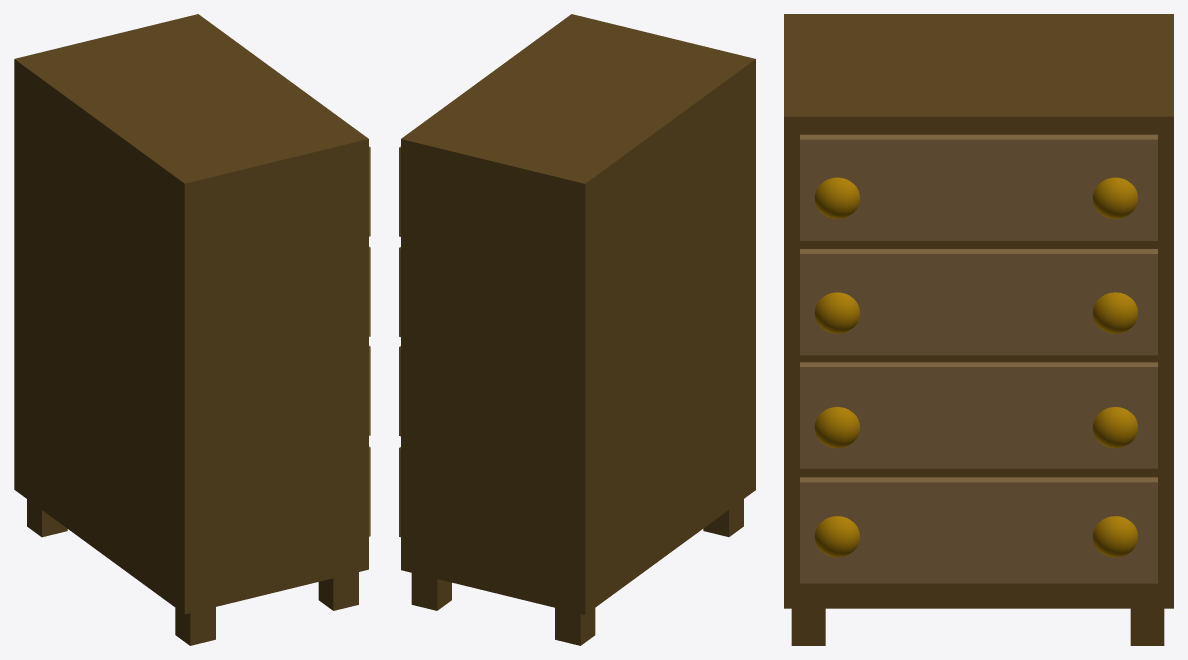
The model's file is Dresser.fbx.
3 views of the same model, side by side, from view 1: azimuth 30°, elevation 25°; view 2: azimuth 150°, elevation 25°; view 3: azimuth 270°, elevation 25° (orthographic). The views are drawn at different scales.
Visible parts, largest first — view 1: pCube1, pCube3, pCube2, pCube4; view 2: pCube1, pCube4, pCube5, pCube3; view 3: pCube1, pCube8, pCube6, pCube9, pCube7, pSphere8, pSphere1, pSphere2, pSphere5, pSphere4, pSphere7, pSphere6 (+3 smaller).
Part boxes in pixels (x1,y1,x2,y2): pCube1: (14, 14, 368, 614); pCube3: (175, 607, 215, 645); pCube2: (318, 572, 358, 610); pCube4: (27, 499, 67, 537); pCube1: (401, 14, 755, 614); pCube4: (555, 608, 595, 645); pCube5: (411, 573, 451, 610); pCube3: (703, 499, 743, 536); pCube1: (784, 14, 1173, 608); pCube8: (800, 249, 1157, 355); pCube6: (800, 477, 1157, 583); pCube9: (800, 134, 1157, 240); pCube7: (800, 362, 1157, 468); pSphere8: (814, 177, 859, 218); pSphere1: (814, 516, 859, 557); pSphere2: (1092, 516, 1137, 557); pSphere5: (1093, 292, 1137, 333); pSphere4: (814, 407, 859, 448); pSphere7: (1092, 177, 1137, 218); pSphere6: (814, 292, 859, 333).
Bounding box in the file's own units: 2.39 × 5.26 × 3.48.
